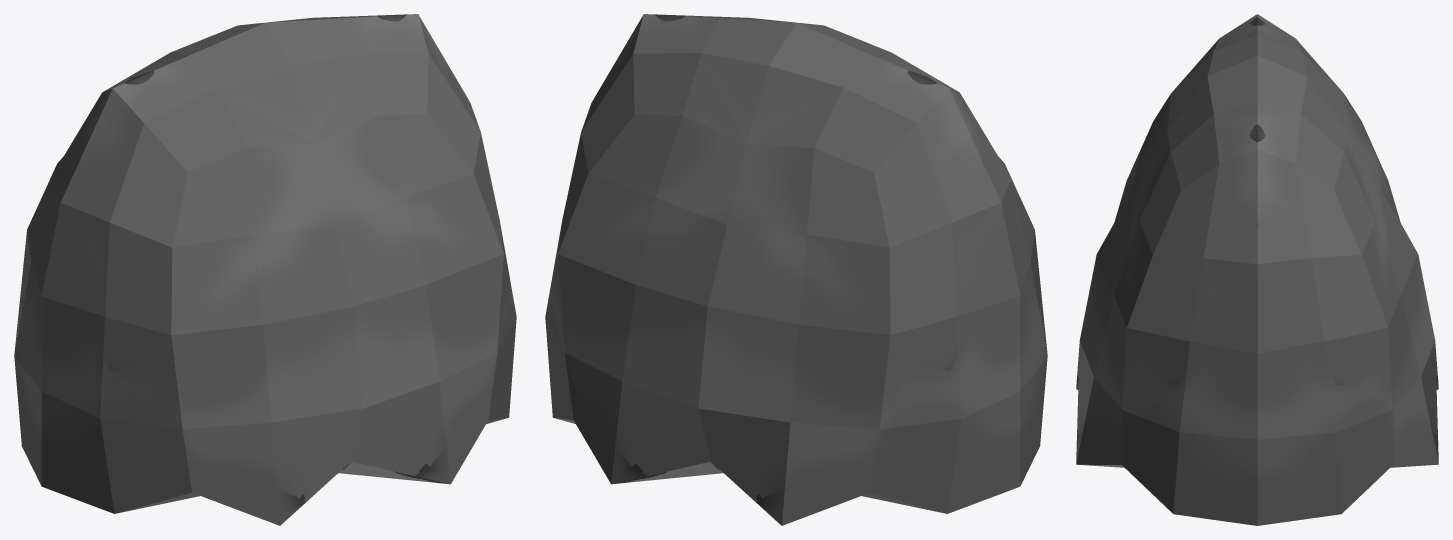
The model's file is Rock.fbx.
The picture shows the model from 3 angles, left to right: view 1: azimuth 30°, elevation 25°; view 2: azimuth 150°, elevation 25°; view 3: azimuth 270°, elevation 25°; orthographic projection. The views are drawn at different scales.
Parts seen in each view (by area): view 1: Cube; view 2: Cube; view 3: Cube.
Boxes of the visible parts, x1,y1,x2,y2 form: Cube: [14, 14, 516, 525]; Cube: [545, 14, 1047, 525]; Cube: [1076, 14, 1438, 525].
Bounding box in the file's own units: 402 × 520 × 454.
